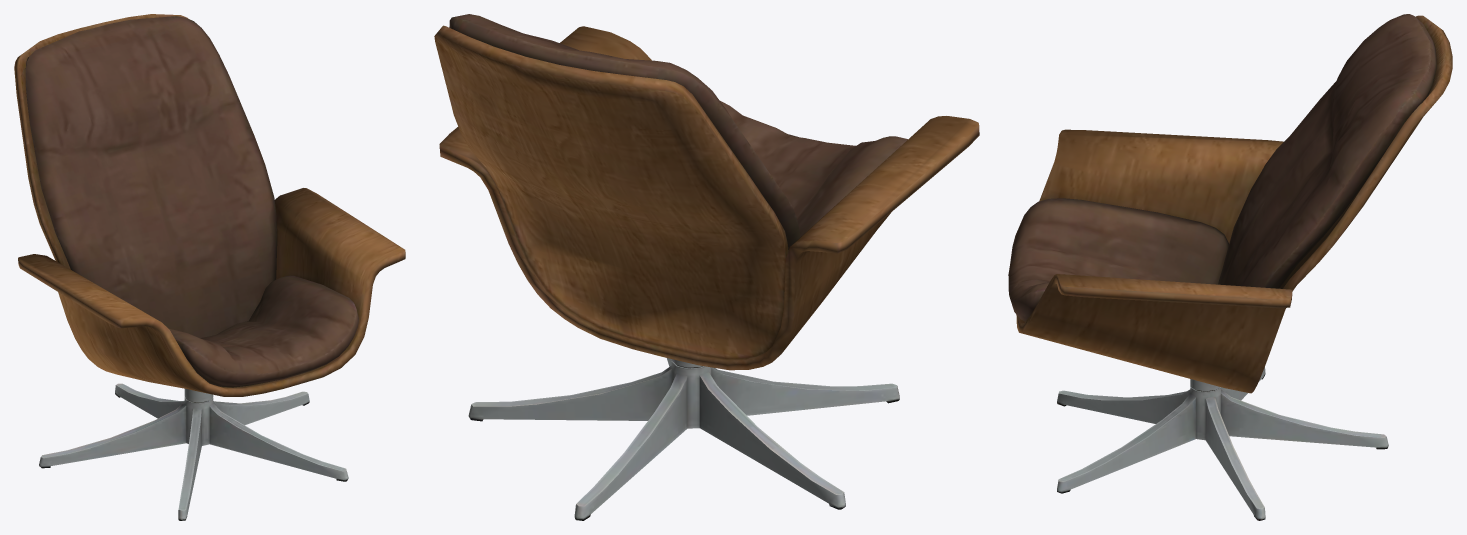
File: ph-mid_century_lounge_chair.glb
3 views of the same model, side by side, from view 1: azimuth 30°, elevation 25°; view 2: azimuth 150°, elevation 25°; view 3: azimuth 270°, elevation 25° (orthographic). The views are drawn at different scales.
Visible parts, largest first — view 1: mid_century_lounge_chair; view 2: mid_century_lounge_chair; view 3: mid_century_lounge_chair.
Part boxes in pixels (box(x1,y1,x2,y2)): mid_century_lounge_chair: box(14, 14, 405, 520); mid_century_lounge_chair: box(434, 14, 979, 520); mid_century_lounge_chair: box(1008, 14, 1452, 520).
Size of the model in its own units: 1.01 by 1.17 by 1.19.
Materials: 1 (1 with a texture image).
